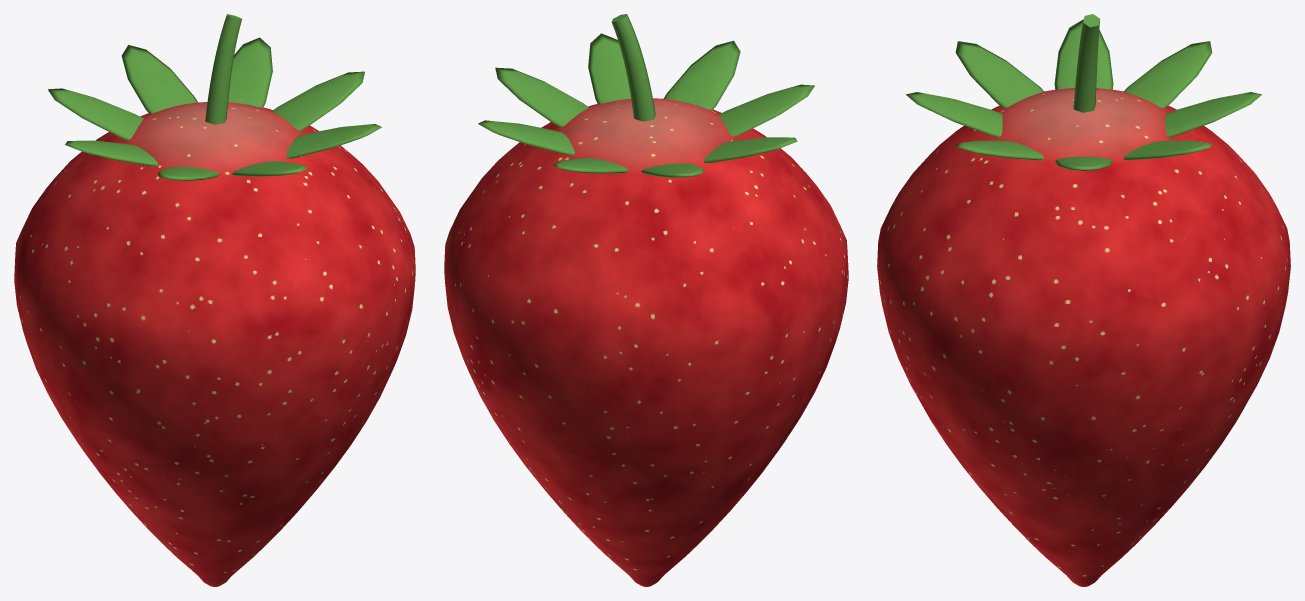
The model's file is strawberry.glb.
3 renders of one model, left to right at view 1: azimuth 30°, elevation 25°; view 2: azimuth 150°, elevation 25°; view 3: azimuth 270°, elevation 25°, orthographic. The views are drawn at different scales.
Parts seen in each view (by area): view 1: strawberry; view 2: strawberry; view 3: strawberry.
Boxes of the visible parts, <box> form: strawberry: <box>14,14,415,586</box>; strawberry: <box>444,14,848,586</box>; strawberry: <box>877,14,1290,586</box>.
Size of the model in its own units: 2.7 by 4.17 by 2.7.
1 material, 1 textured.
